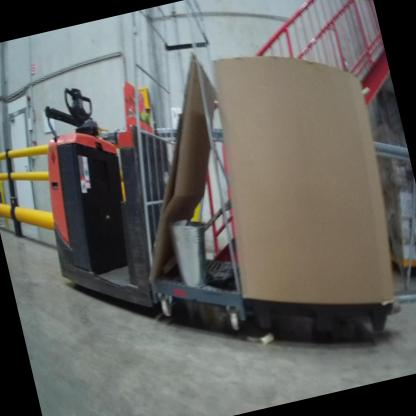pallet_truck: (13, 48, 228, 351)
